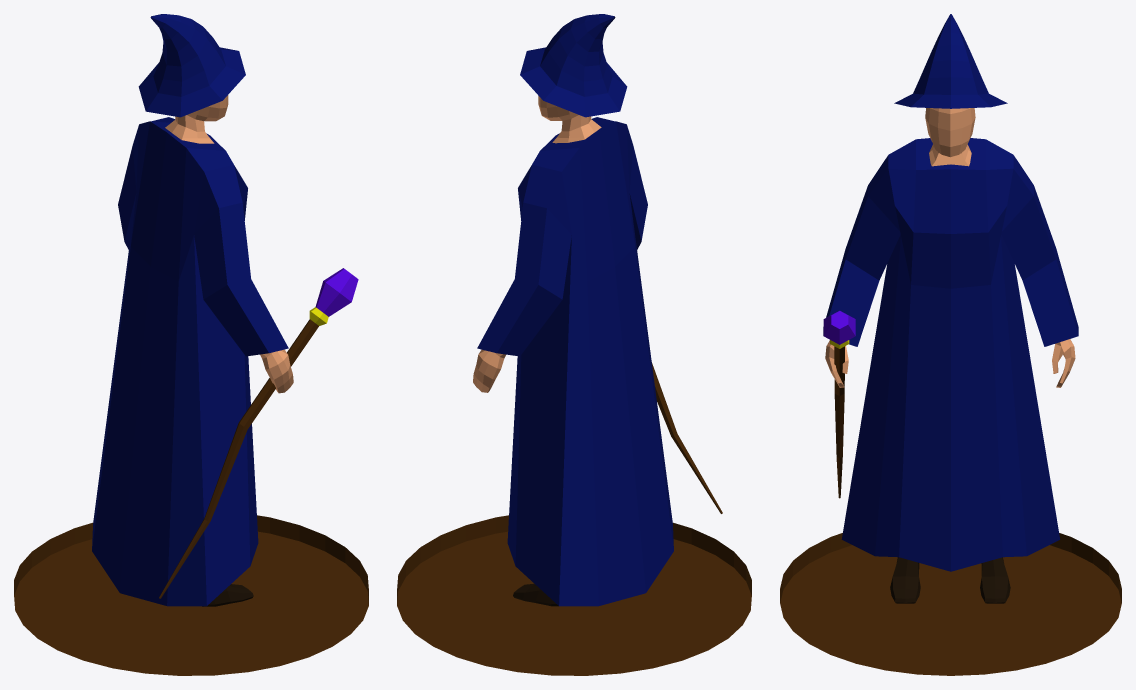
File: Mage Figurine.fbx
The picture shows the model from 3 angles, left to right: view 1: azimuth 30°, elevation 25°; view 2: azimuth 150°, elevation 25°; view 3: azimuth 270°, elevation 25°; orthographic projection. The views are drawn at different scales.
Parts seen in each view (by area): view 1: Robe, Stand, Cone, Staff, Mage, Mage.001; view 2: Robe, Stand, Cone, Mage, Staff, Mage.001; view 3: Robe, Stand, Cone, Mage, Mage.001, Staff.
Part boxes in pixels (<box>): Robe: <box>92,117,288,606</box>; Stand: <box>14,515,368,675</box>; Cone: <box>138,14,245,117</box>; Staff: <box>159,268,358,598</box>; Mage: <box>165,95,293,393</box>; Mage.001: <box>202,584,253,606</box>; Robe: <box>477,117,673,606</box>; Stand: <box>397,515,751,675</box>; Cone: <box>520,14,627,117</box>; Mage: <box>473,96,601,392</box>; Staff: <box>651,362,722,513</box>; Mage.001: <box>513,583,558,606</box>; Robe: <box>823,138,1078,571</box>; Stand: <box>780,533,1121,675</box>; Cone: <box>894,14,1007,108</box>; Mage: <box>825,108,1075,387</box>; Mage.001: <box>890,557,1010,603</box>; Staff: <box>823,310,855,498</box>.
Bounding box in the file's own units: 7.5 × 13.83 × 7.5.
